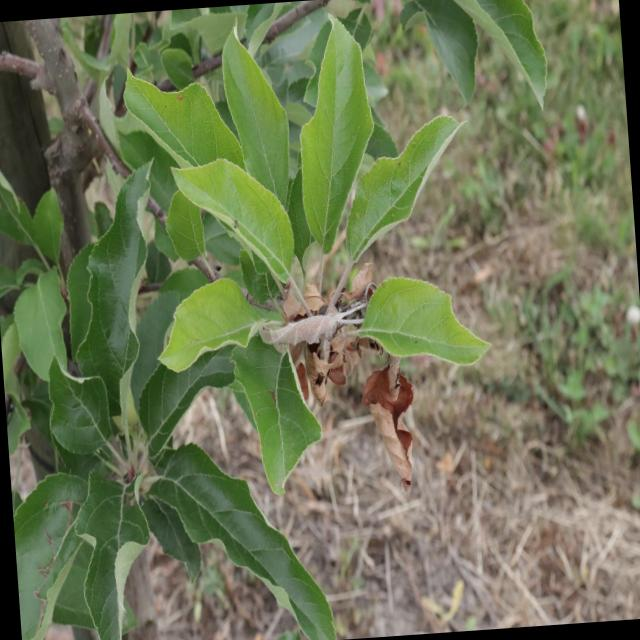-FireBlight-: (281, 258, 361, 387), (358, 353, 422, 487)
